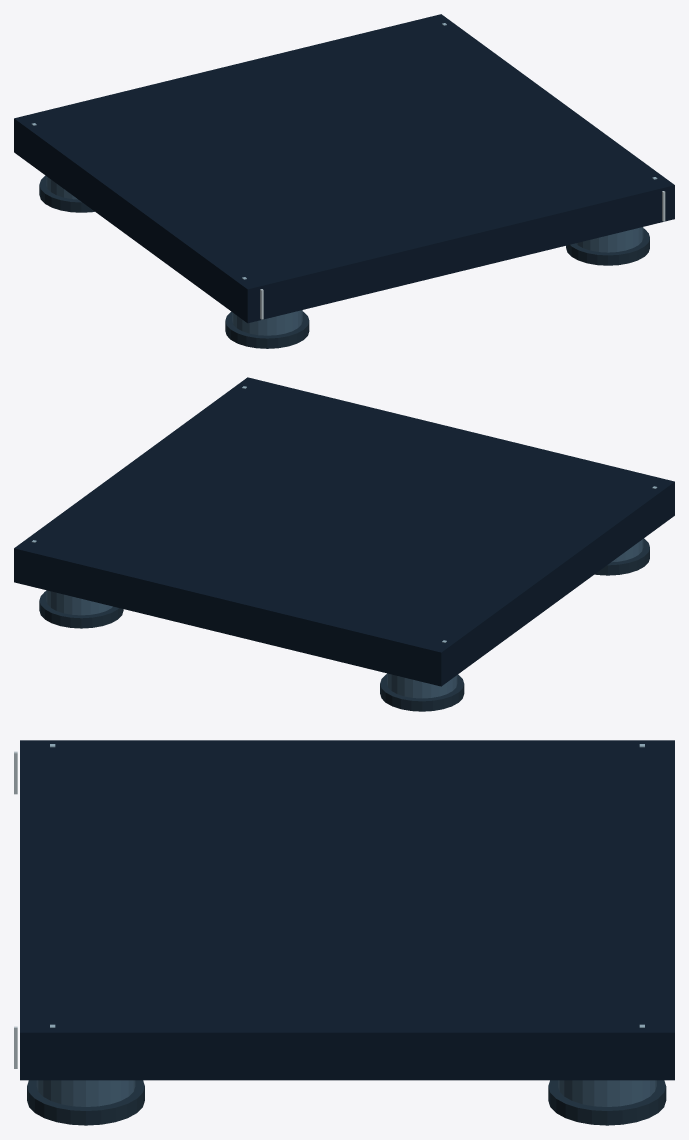
Rendered from 36_L74_ActiveVibrationIsolationPlatform.fbx.
The picture shows the model from 3 angles, top to bottom: view 1: azimuth 30°, elevation 25°; view 2: azimuth 150°, elevation 25°; view 3: azimuth 270°, elevation 25°; orthographic projection. The views are drawn at different scales.
Parts seen in each view (by area): view 1: ActiveVibrationIsolationPlatform_Part_0000, ActiveVibrationIsolationPlatform_Part_0016, ActiveVibrationIsolationPlatform_Part_0026, ActiveVibrationIsolationPlatform_Part_0012, ActiveVibrationIsolationPlatform_Part_0022, ActiveVibrationIsolationPlatform_Part_0011; view 2: ActiveVibrationIsolationPlatform_Part_0000, ActiveVibrationIsolationPlatform_Part_0011, ActiveVibrationIsolationPlatform_Part_0021, ActiveVibrationIsolationPlatform_Part_0007, ActiveVibrationIsolationPlatform_Part_0017, ActiveVibrationIsolationPlatform_Part_0016; view 3: ActiveVibrationIsolationPlatform_Part_0000, ActiveVibrationIsolationPlatform_Part_0021, ActiveVibrationIsolationPlatform_Part_0026, ActiveVibrationIsolationPlatform_Part_0022, ActiveVibrationIsolationPlatform_Part_0017.
Part boxes in pixels (x1,y1,x2,y2): ActiveVibrationIsolationPlatform_Part_0000: (14, 14, 674, 323); ActiveVibrationIsolationPlatform_Part_0016: (225, 311, 309, 348); ActiveVibrationIsolationPlatform_Part_0026: (566, 228, 649, 265); ActiveVibrationIsolationPlatform_Part_0012: (232, 310, 302, 335); ActiveVibrationIsolationPlatform_Part_0022: (576, 227, 643, 252); ActiveVibrationIsolationPlatform_Part_0011: (39, 175, 94, 212); ActiveVibrationIsolationPlatform_Part_0000: (14, 377, 674, 686); ActiveVibrationIsolationPlatform_Part_0011: (380, 674, 464, 711); ActiveVibrationIsolationPlatform_Part_0021: (39, 591, 123, 628); ActiveVibrationIsolationPlatform_Part_0007: (387, 673, 457, 698); ActiveVibrationIsolationPlatform_Part_0017: (46, 590, 112, 615); ActiveVibrationIsolationPlatform_Part_0016: (595, 538, 649, 575); ActiveVibrationIsolationPlatform_Part_0000: (20, 740, 674, 1080); ActiveVibrationIsolationPlatform_Part_0021: (548, 1080, 666, 1125); ActiveVibrationIsolationPlatform_Part_0026: (27, 1080, 144, 1125); ActiveVibrationIsolationPlatform_Part_0022: (36, 1080, 135, 1106); ActiveVibrationIsolationPlatform_Part_0017: (558, 1080, 656, 1106).
Size of the model in its own units: 434 by 68.22 by 415.
